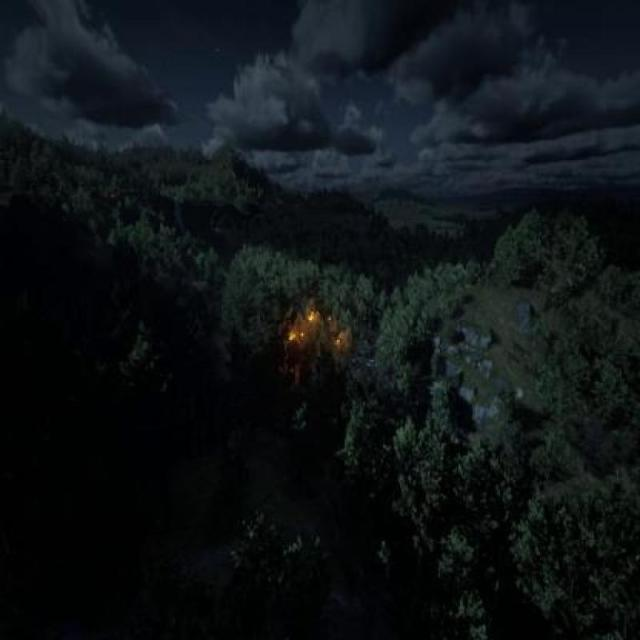Fire: (280, 300, 350, 368)
